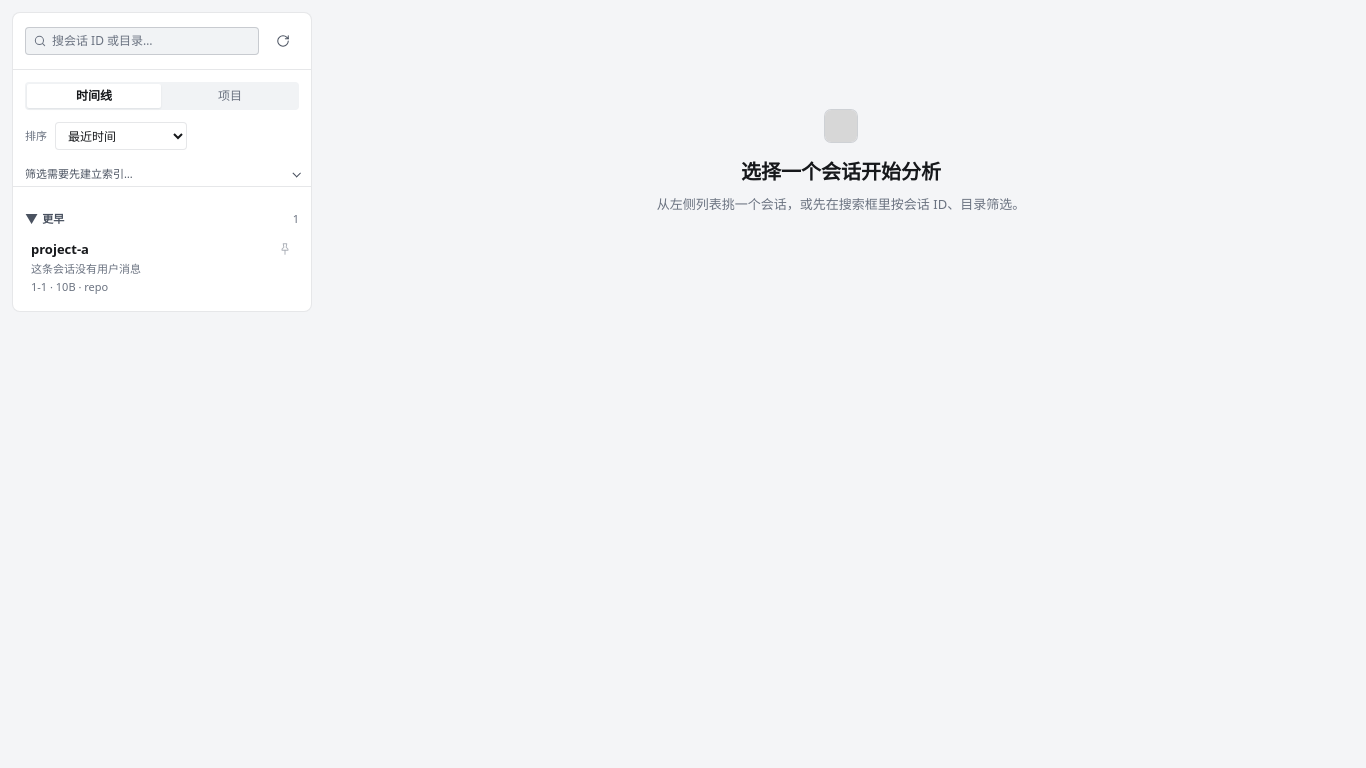
it: shows graph warnings when a child session cannot be resolved
Click the button "project-a 这条会话没有用户消息 1-1 · 10B · repo": coordinates (60, 249) [21,231,303,303]
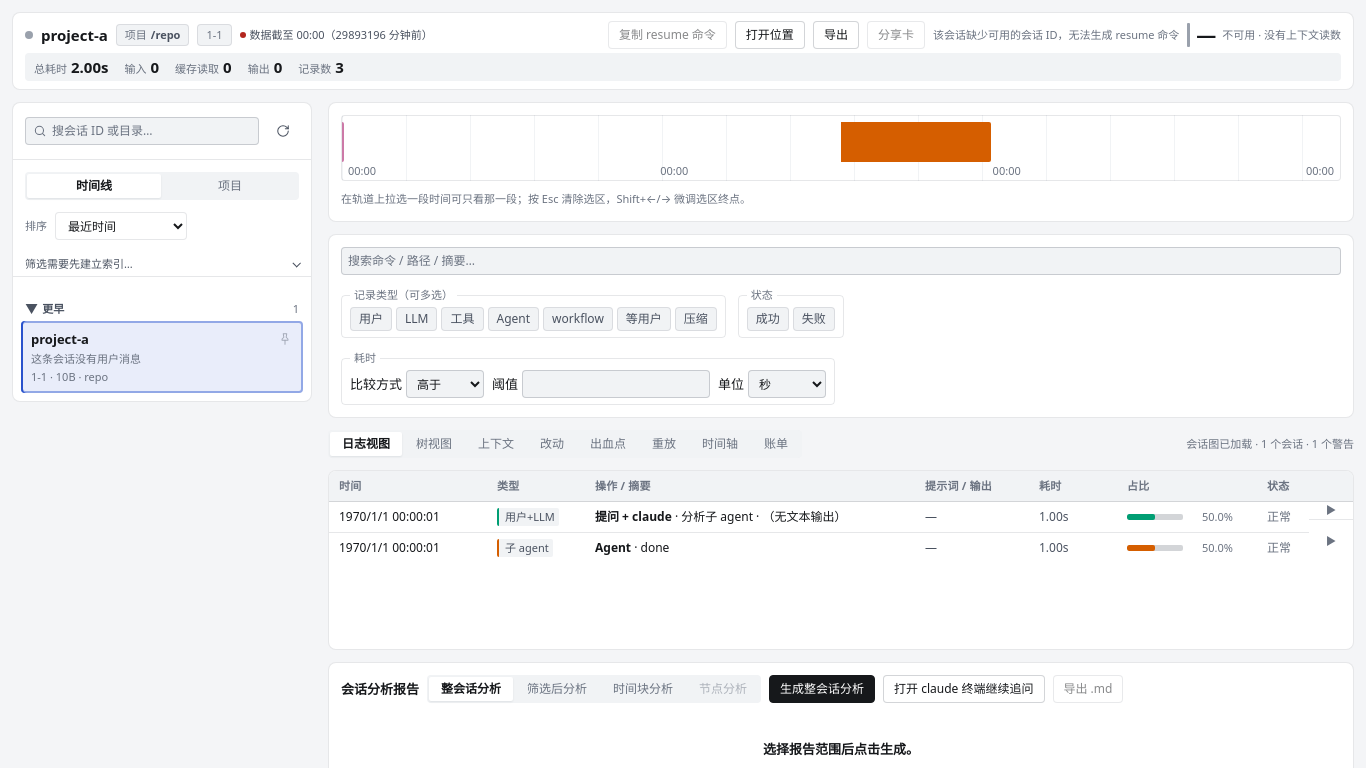
Result: the message named "会话图状态" shows "1 个警告" at [1186,436,1354,451]
